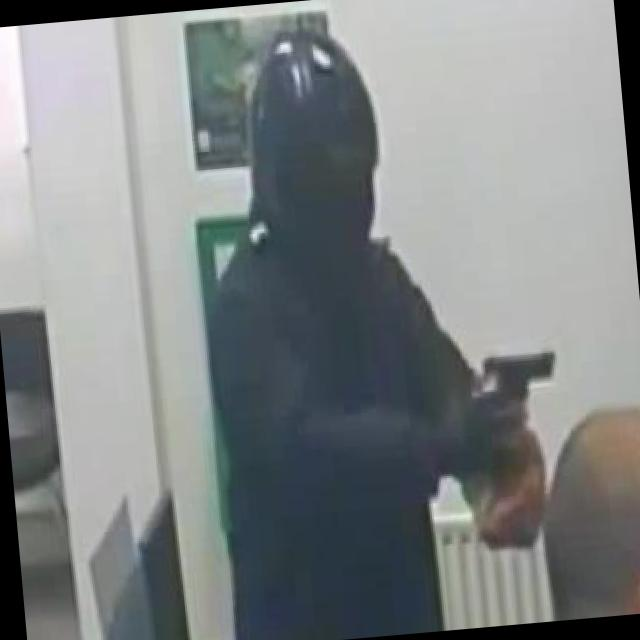Guns: (460, 328, 574, 421)
